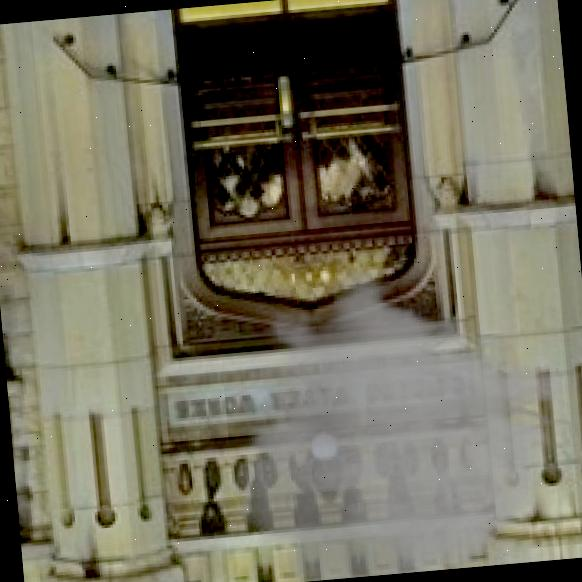smoke: (172, 249, 582, 582)
